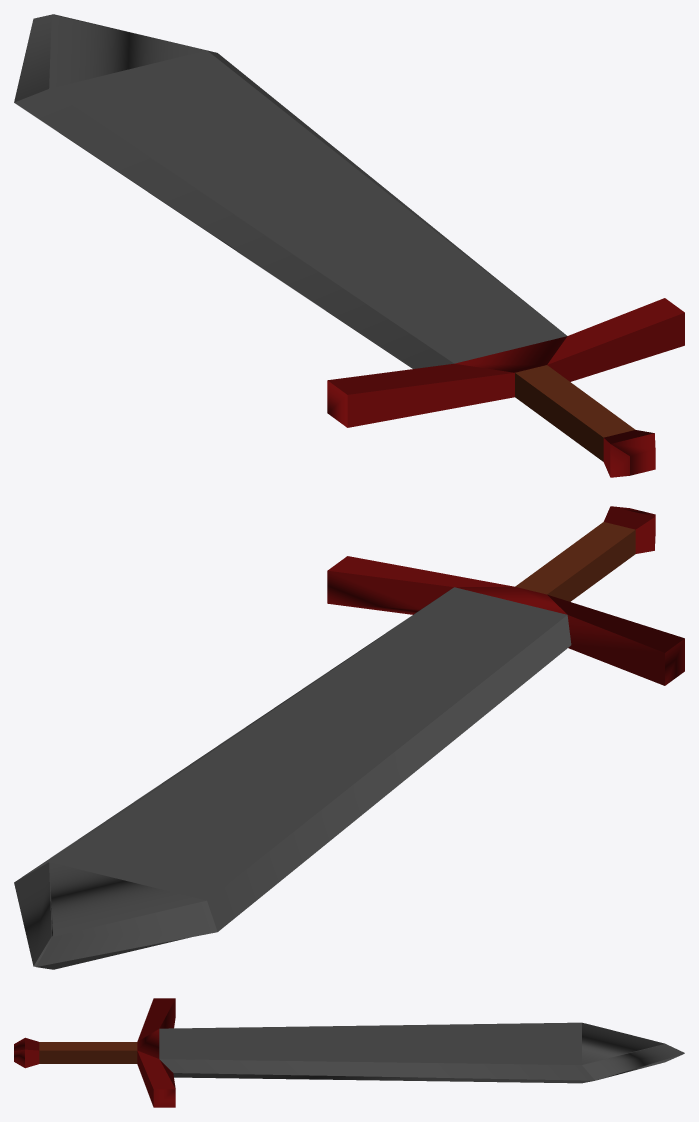
File: Sword.fbx
3 renders of one model, top to bottom at view 1: azimuth 30°, elevation 25°; view 2: azimuth 150°, elevation 25°; view 3: azimuth 270°, elevation 25°, orthographic. The views are drawn at different scales.
Parts seen in each view (by area): view 1: Lez, Ry, Der; view 2: Lez, Ry, Der; view 3: Lez, Ry, Der.
Part boxes in pixels (x1=…): Lez: x1=14, y1=14, x2=566, y2=368; Ry: x1=327, y1=298, x2=684, y2=477; Der: x1=515, y1=365, x2=635, y2=461; Lez: x1=14, y1=587, x2=571, y2=969; Ry: x1=327, y1=506, x2=684, y2=685; Der: x1=515, y1=522, x2=635, y2=601; Lez: x1=159, y1=1022, x2=684, y2=1083; Ry: x1=14, y1=998, x2=175, y2=1107; Der: x1=39, y1=1042, x2=137, y2=1063.
Size of the model in its own units: 102 by 9.74 by 318.
